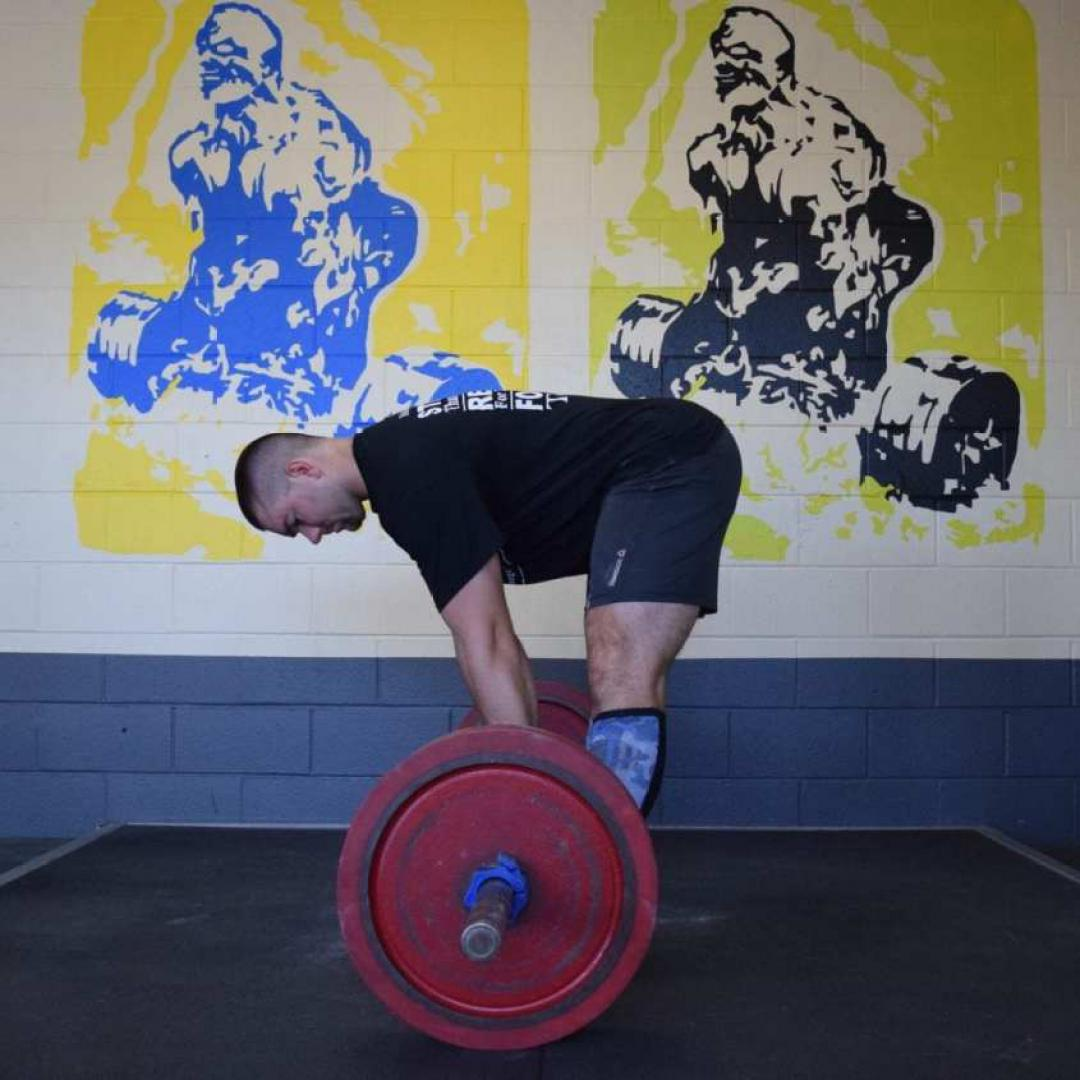Bar: (458, 919, 502, 965)
Barbell: (342, 726, 654, 1048)
